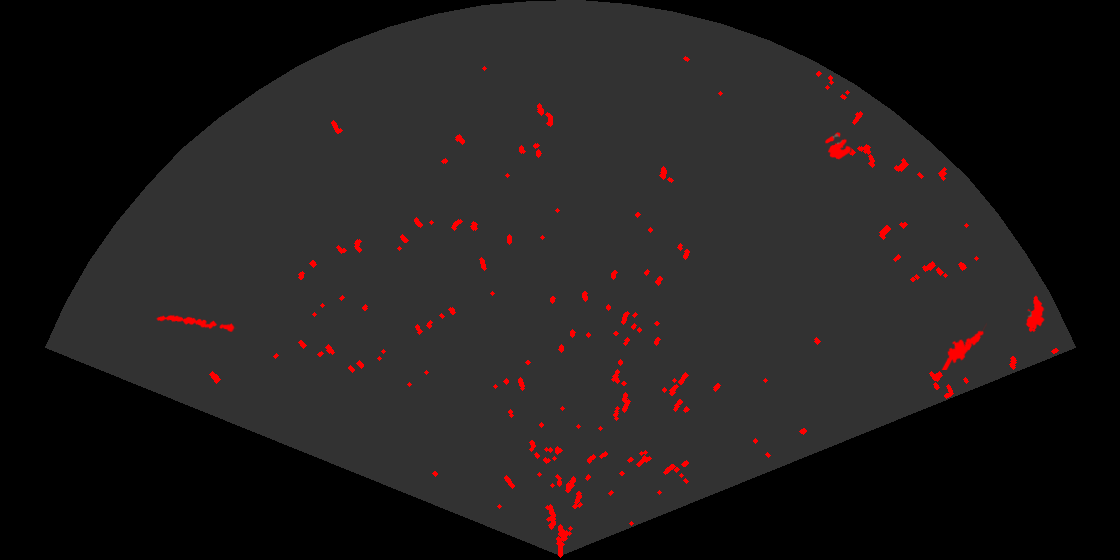AUV: (1024, 294, 1045, 334)
ball: (823, 131, 853, 161)
chain: (154, 313, 237, 334)
frogman: (940, 322, 987, 370)
